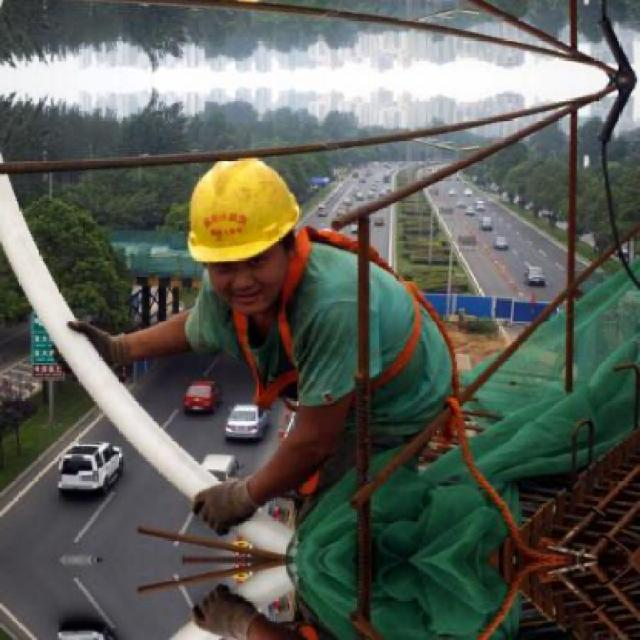helmet: (168, 142, 310, 320)
